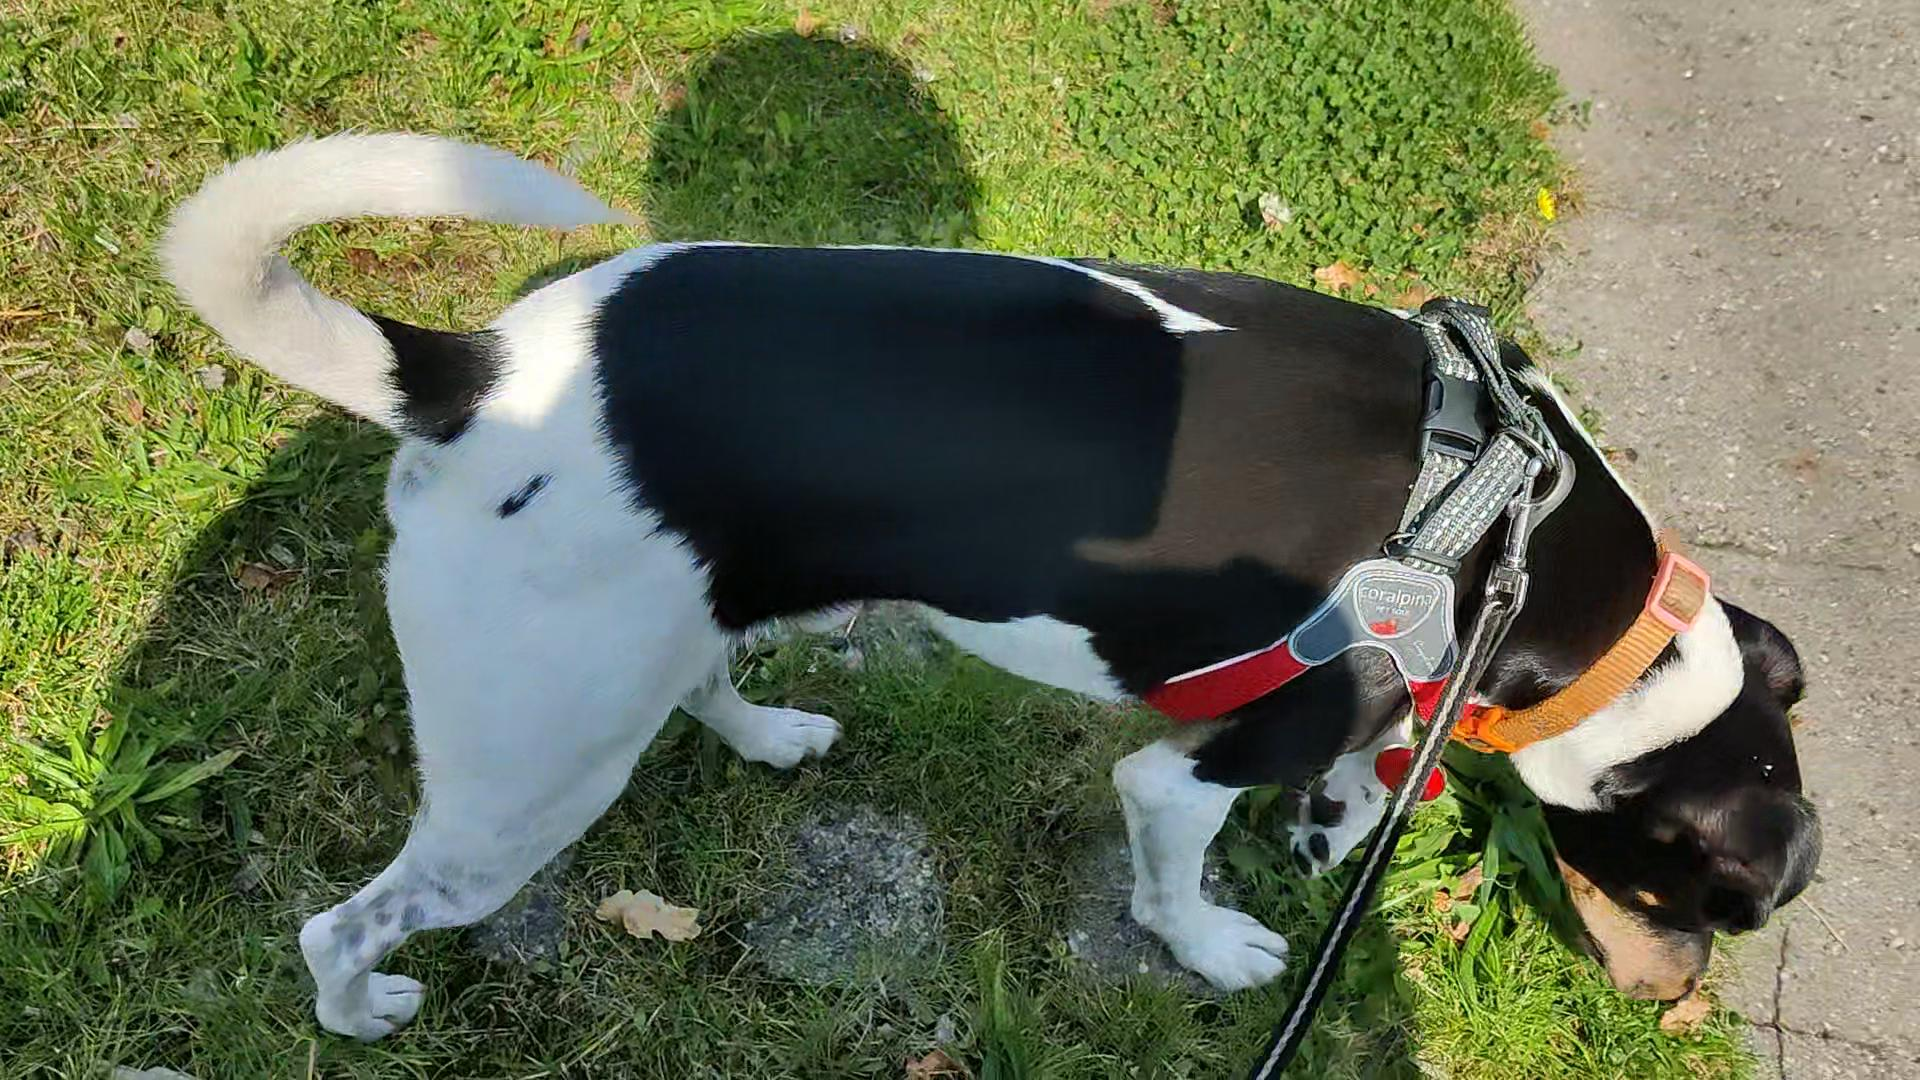Dog: (148, 117, 1832, 1046)
